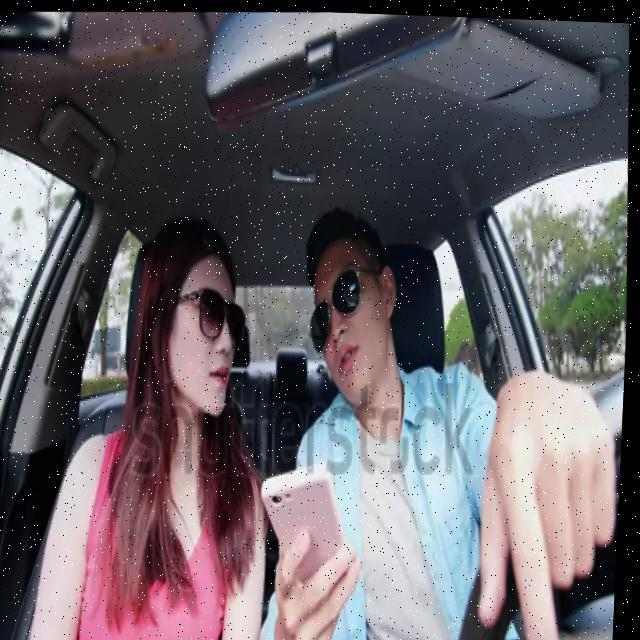PhoneCall: (260, 454, 354, 598)
